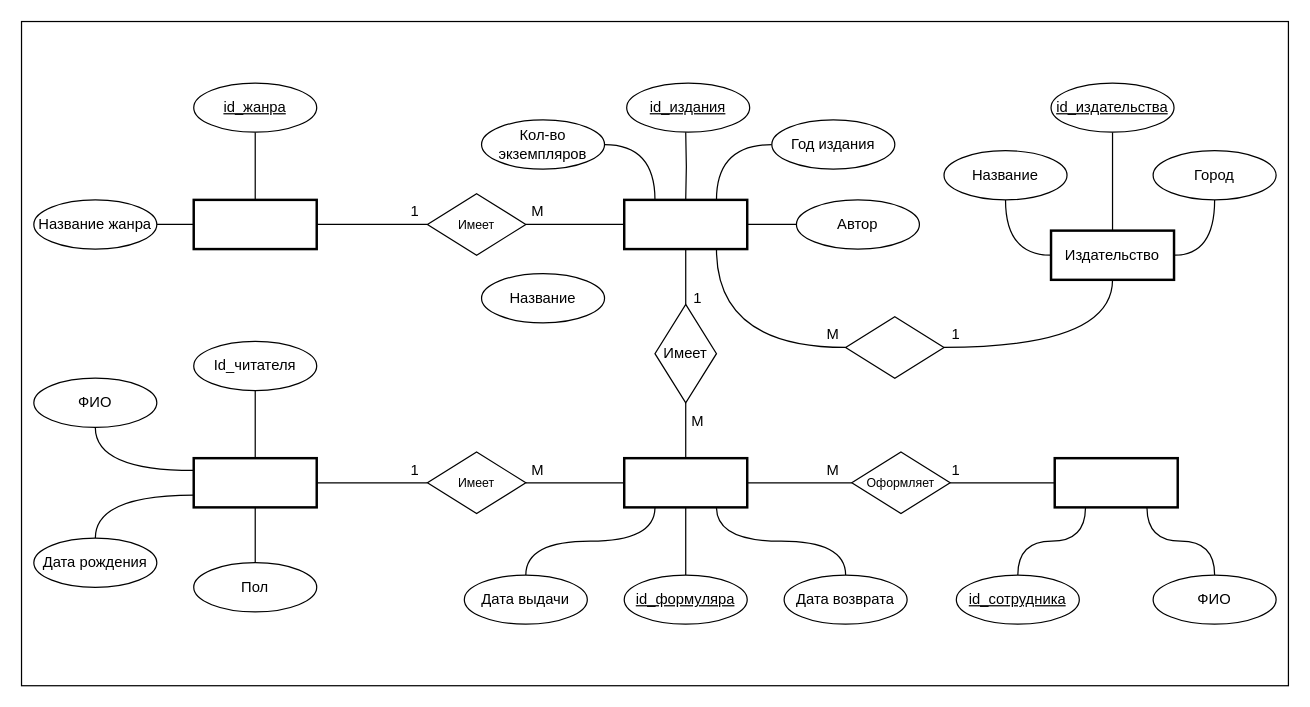
The diagram is 1310 pixels wide and 707 high, and some of its shapes have lost their labels. The centre of each missing label's shape, as x and y in pixels:
"Библиотекарь" belongs at [1115,482].
"Выпускает" belongs at [894,346].
"Жанр" belongs at [254,224].
"Издание" belongs at [685,224].
"Формуляр" belongs at [685,482].
"Читатель" belongs at [254,482].
